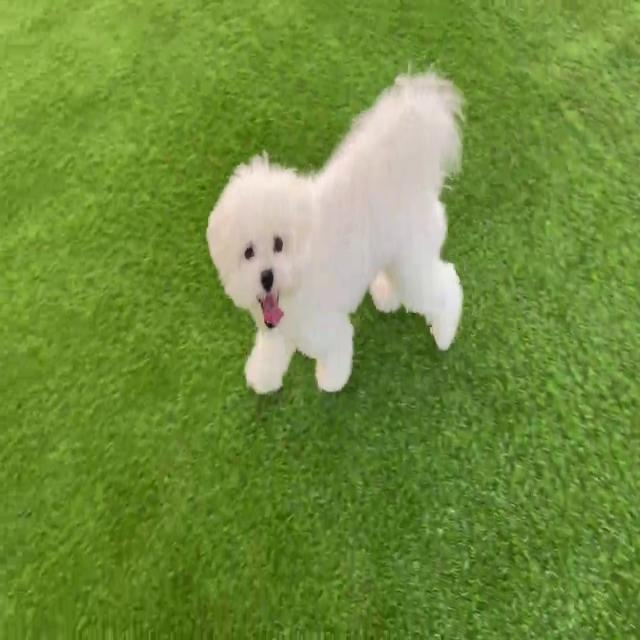Dog: (203, 64, 467, 396)
